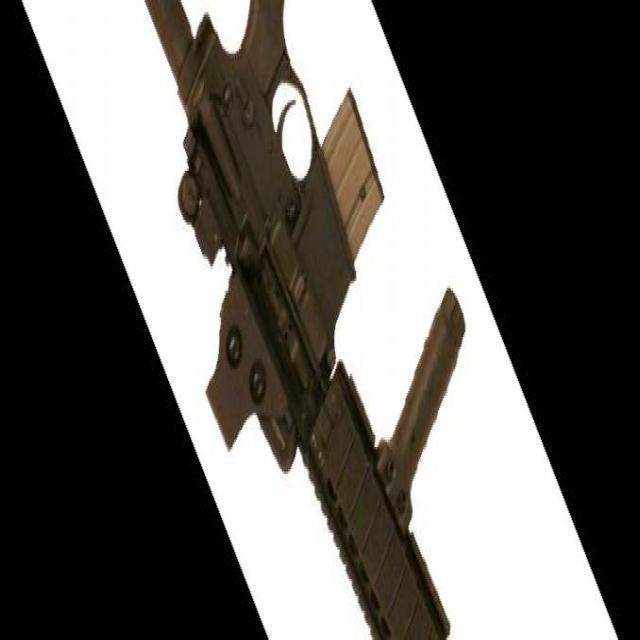weapon: (142, 0, 468, 640)
